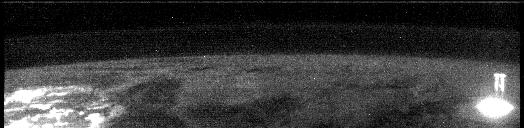positive: (490, 72, 509, 94)
